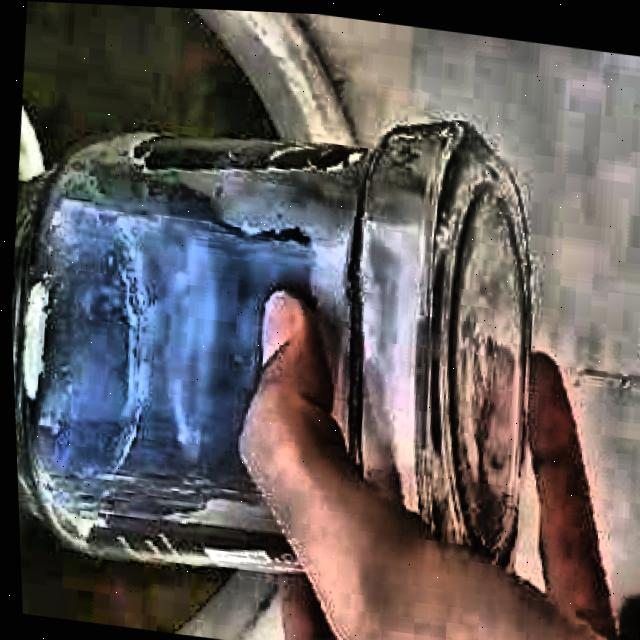glass: (9, 121, 528, 566)
